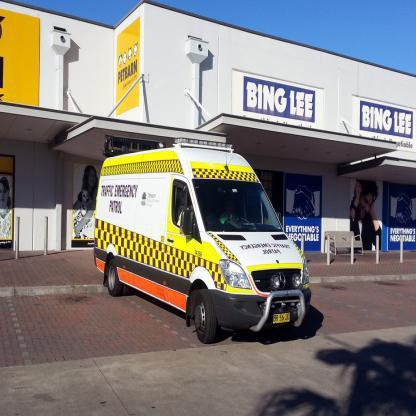Ambulance - v1 Ambulance last generate: (94, 142, 313, 345)
